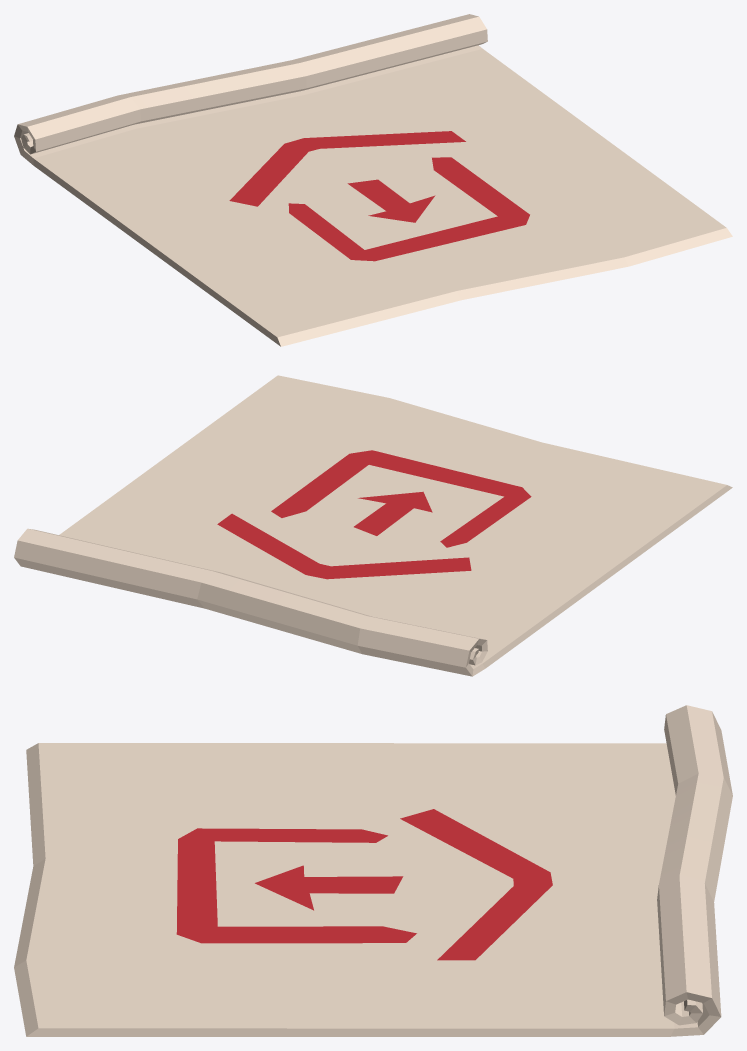
The model's file is apocalypse_safe-house-rug.fbx.
The picture shows the model from 3 angles, top to bottom: view 1: azimuth 30°, elevation 25°; view 2: azimuth 150°, elevation 25°; view 3: azimuth 270°, elevation 25°; orthographic projection. The views are drawn at different scales.
Parts seen in each view (by area): view 1: apocalypse_safe_house_rug; view 2: apocalypse_safe_house_rug; view 3: apocalypse_safe_house_rug.
Boxes of the visible parts, box(x1,y1,x2,y2) form: apocalypse_safe_house_rug: box(14, 14, 732, 346); apocalypse_safe_house_rug: box(14, 375, 732, 676); apocalypse_safe_house_rug: box(14, 705, 732, 1036).
Size of the model in its own units: 189 by 13.74 by 200.
